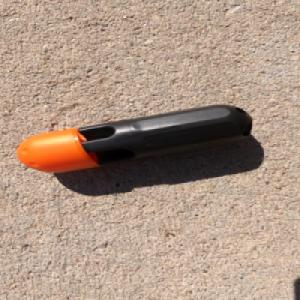PlasticPart: (17, 104, 253, 174)
